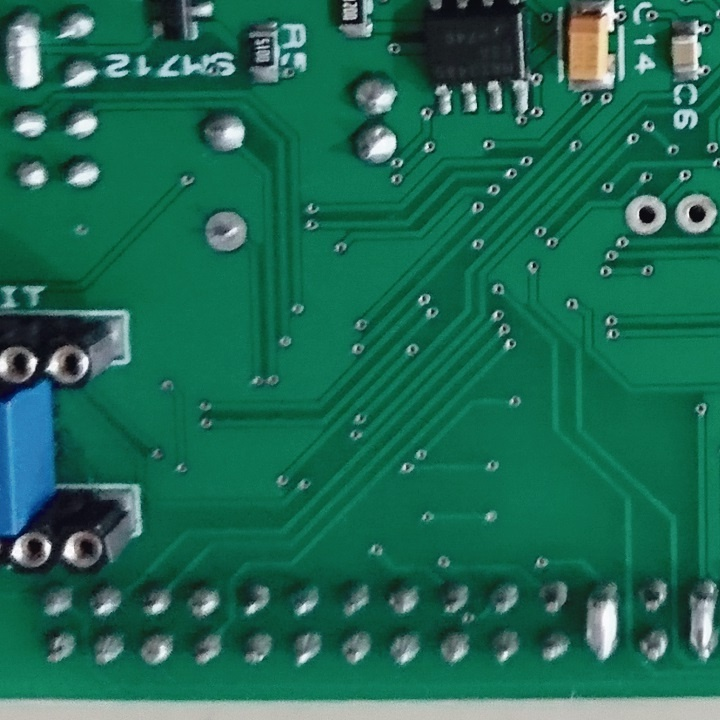F: (201, 208, 253, 255), (673, 190, 719, 240), (623, 193, 669, 240)
P: (1, 5, 48, 94), (581, 578, 624, 665), (681, 574, 720, 661)
